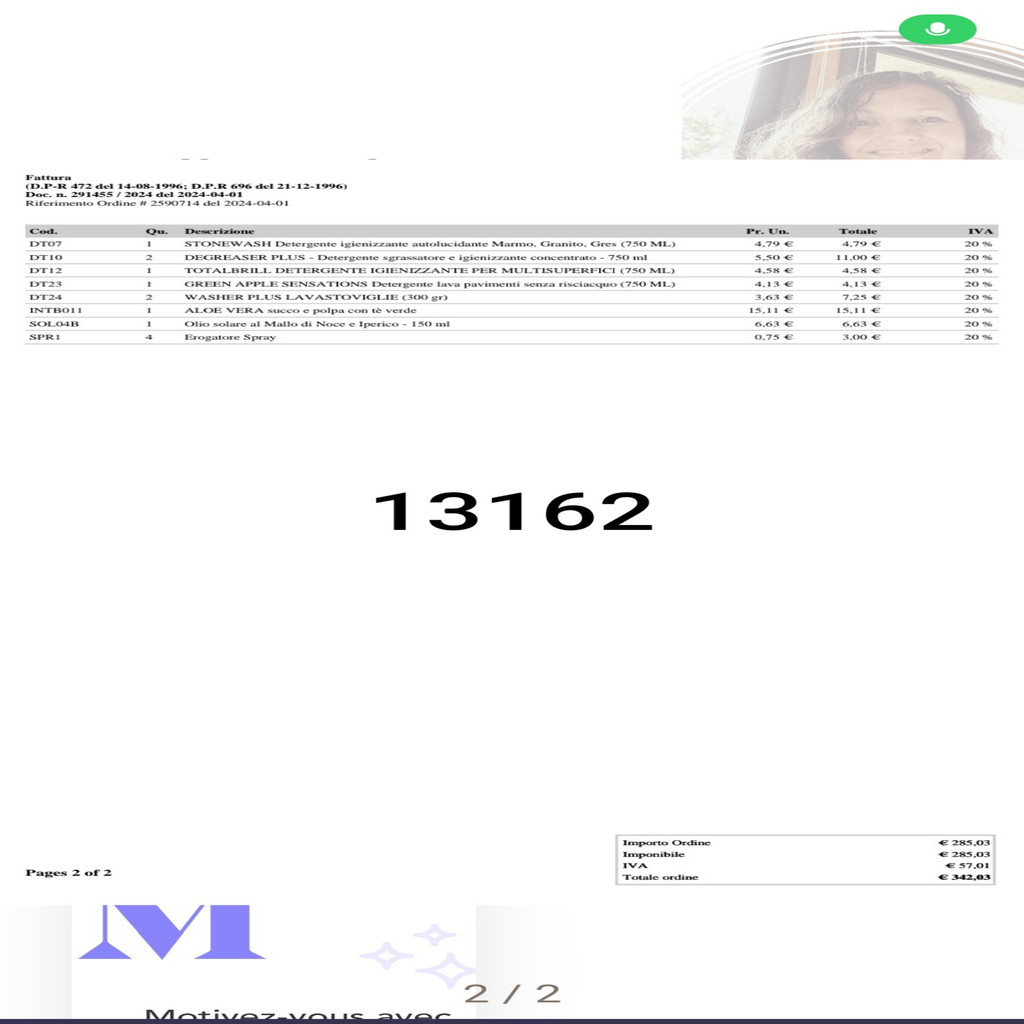recipt: (21, 164, 1011, 930)
